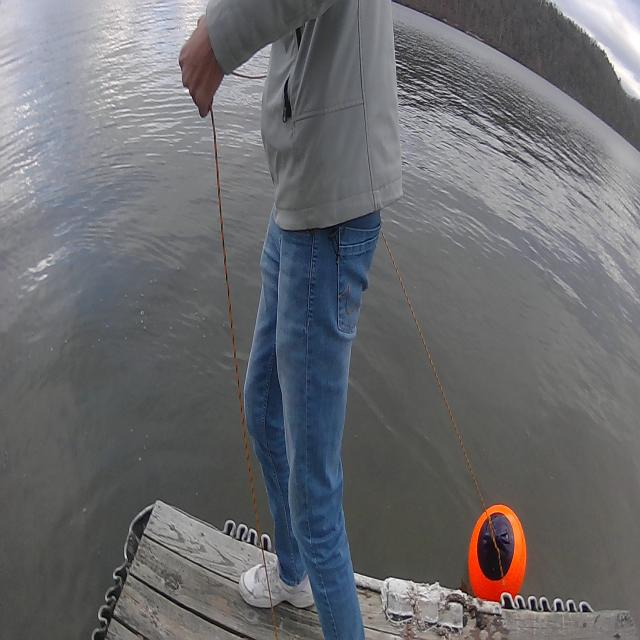Buoy: (463, 494, 530, 614)
